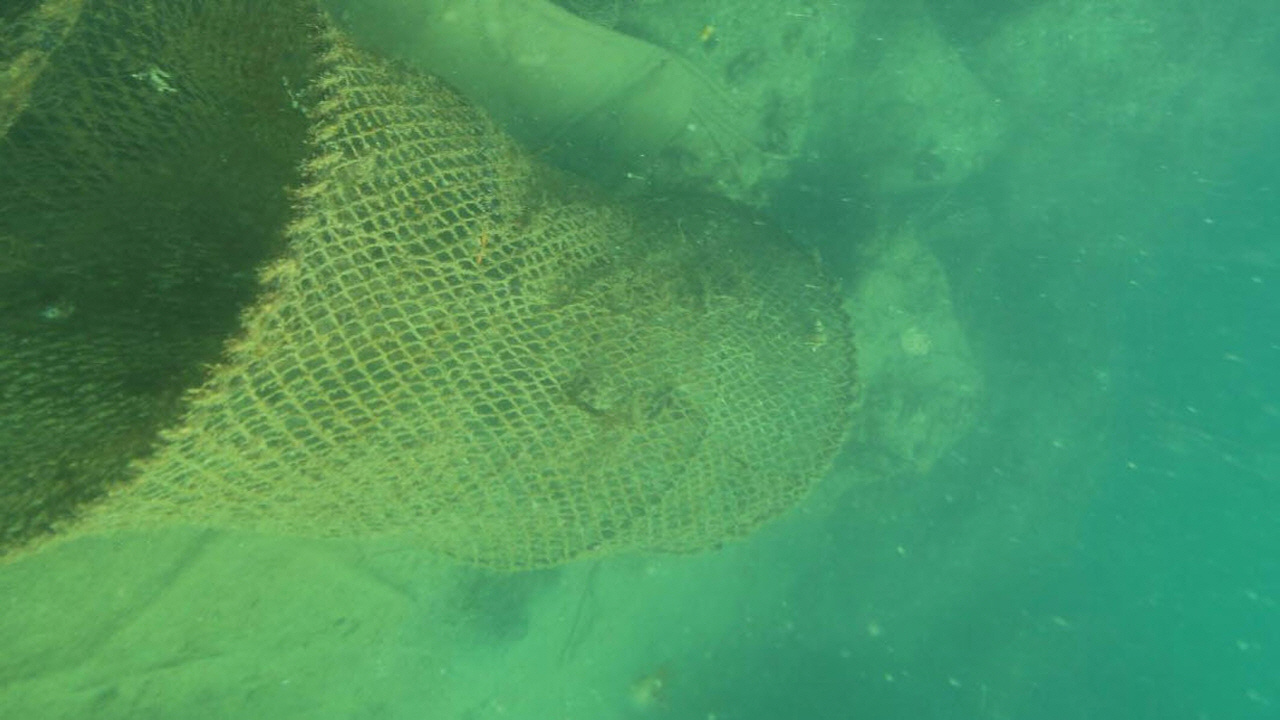spring fish trap: (0, 0, 857, 574)
